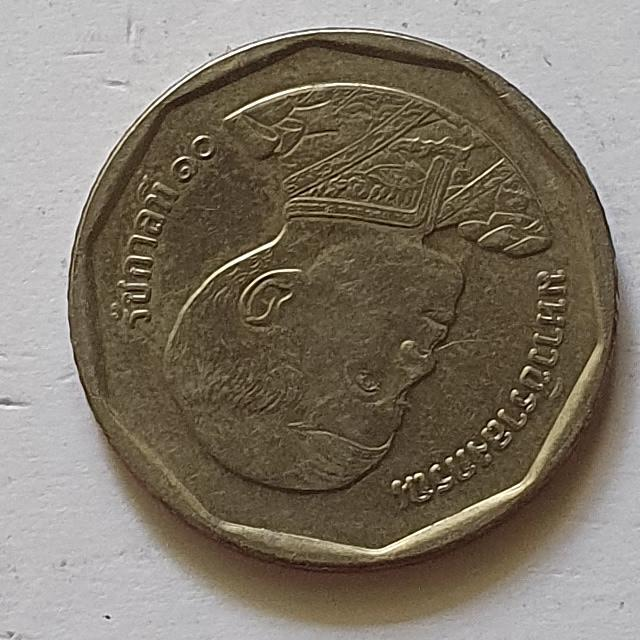5 Bath: (54, 20, 622, 583)
